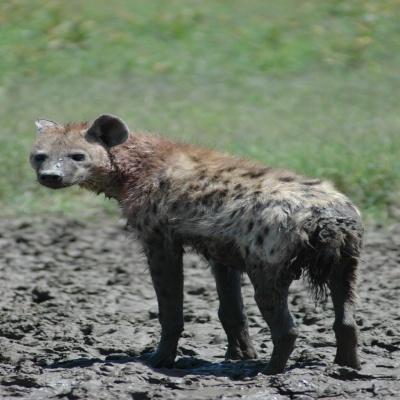hyenas: (10, 83, 400, 382)
